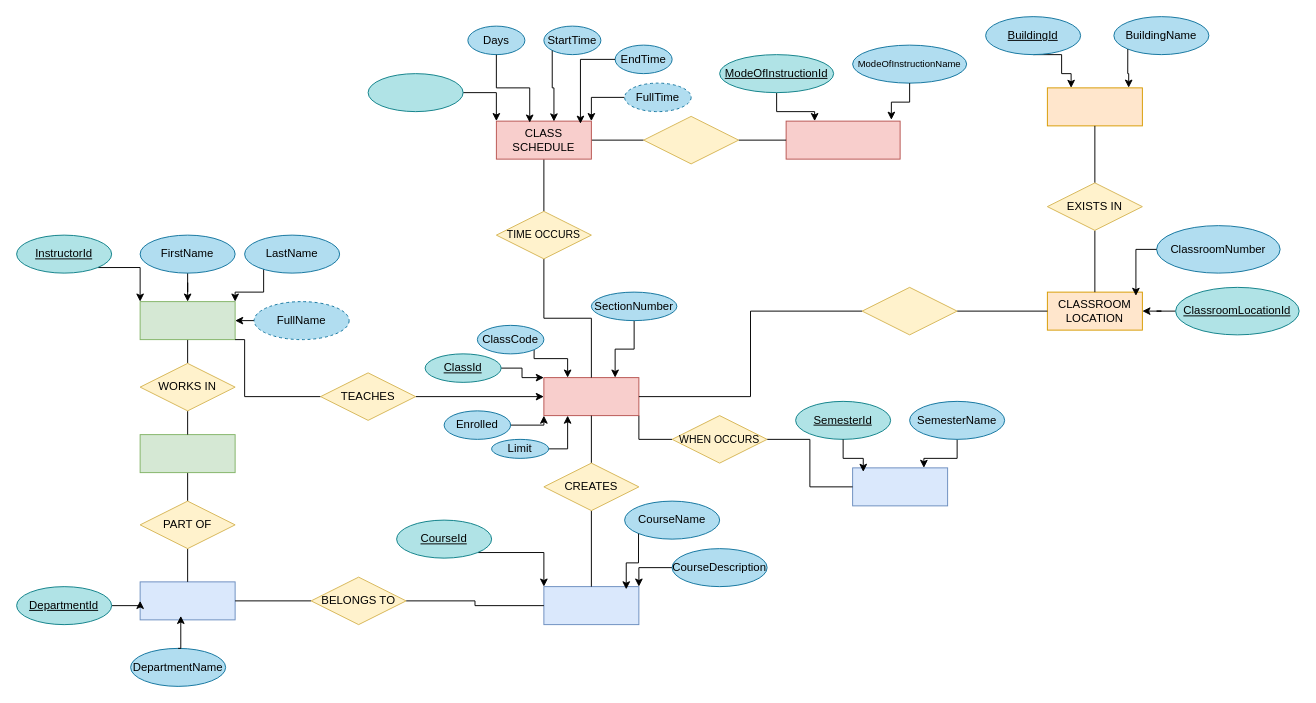
Image size: 1316x703. Some labels were removed from this diagram. The centre of each missing label's shape, as x and y in pixels:
"BUILDING" goes at point 1094,106.
"CLASS" goes at point 591,396.
"ClassScheduleId" goes at point 415,92.
"COURSE" goes at point 591,605.
"DEPARTMENT" goes at point 187,600.
"HELD IN" goes at point 909,310.
"INSTRUCTOR" goes at point 187,320.
"INSTRUCTOR DEPARTMENT" goes at point 187,453.
"MODE OF INSTRUCTION" goes at point 842,139.
"SEMESTER" goes at point 900,486.
"TYPE OF" goes at point 691,139.
